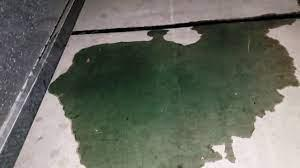water accumulation: (49, 19, 298, 167)
